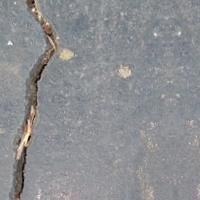crack: (10, 0, 62, 199)
